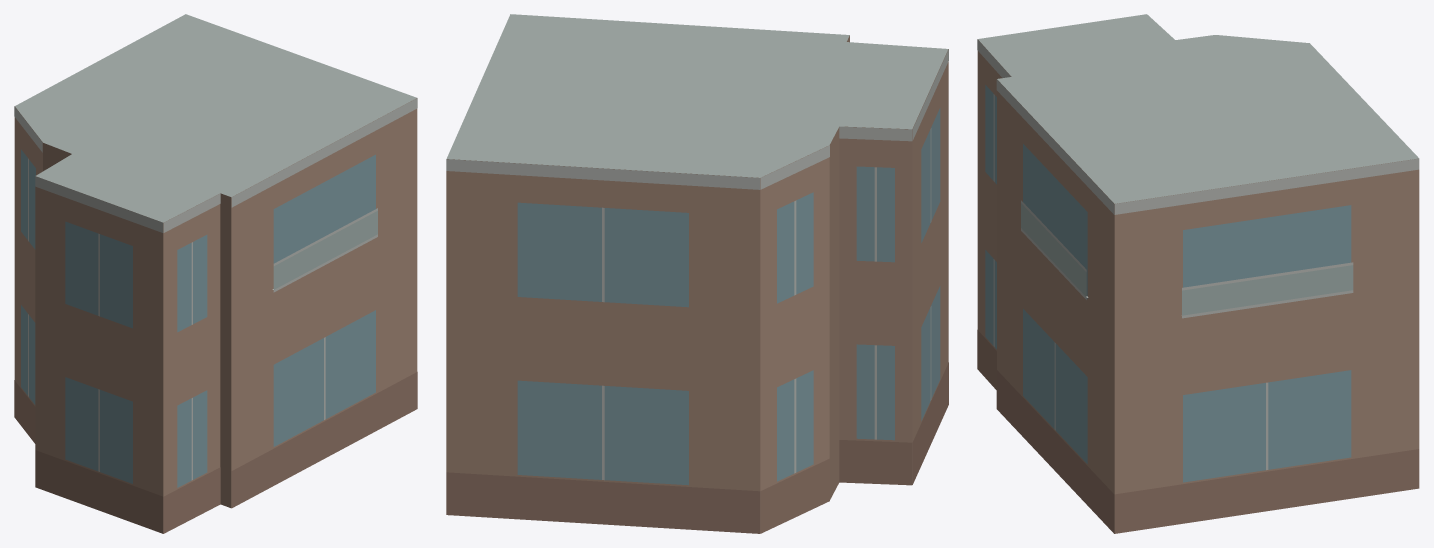
File: survey-upis-33044861.glb
3 views of the same model, side by side, from view 1: azimuth 30°, elevation 25°; view 2: azimuth 150°, elevation 25°; view 3: azimuth 270°, elevation 25° (orthographic). The views are drawn at different scales.
Parts seen in each view (by area): view 1: survey-upis-33044861.tmp; view 2: survey-upis-33044861.tmp; view 3: survey-upis-33044861.tmp.
Part boxes in pixels (left/top/right/bottom): survey-upis-33044861.tmp: left=14, top=14, right=417, bottom=533; survey-upis-33044861.tmp: left=446, top=14, right=948, bottom=533; survey-upis-33044861.tmp: left=977, top=14, right=1419, bottom=533.
Bounding box in the file's own units: 8.89 × 7.2 × 8.75.
